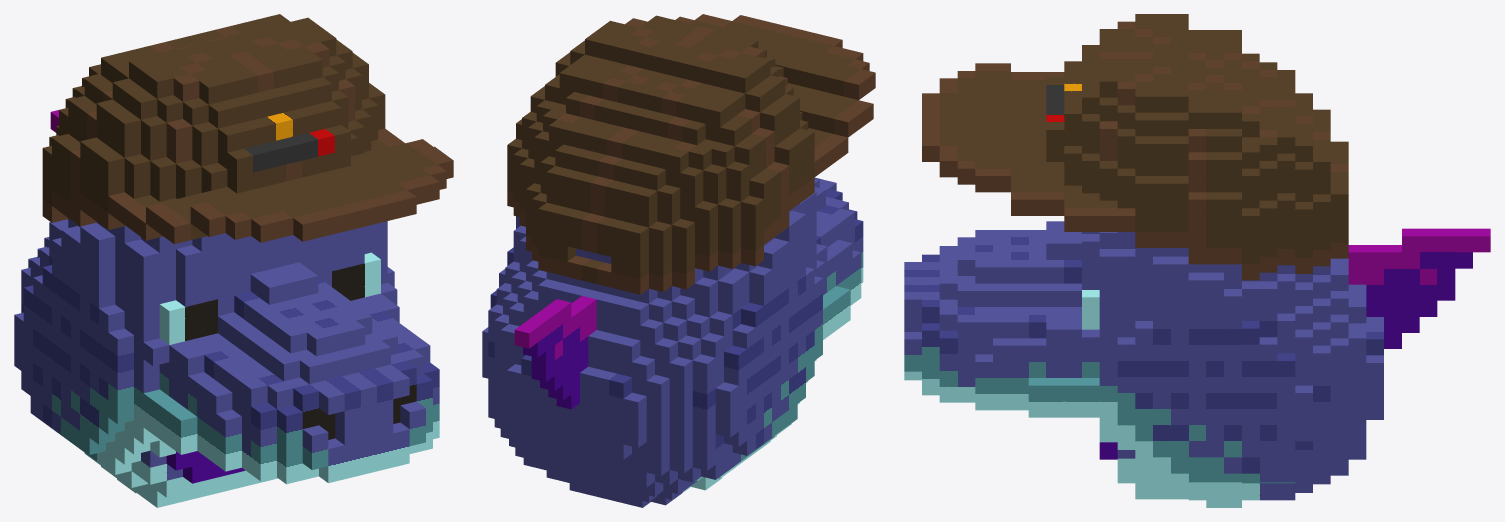
File: wsb hat_red glasses.gltf
3 views of the same model, side by side, from view 1: azimuth 30°, elevation 25°; view 2: azimuth 150°, elevation 25°; view 3: azimuth 270°, elevation 25° (orthographic). The views are drawn at different scales.
Visible parts, largest first — view 1: C61_H_WSB_RedG_RBSpec_SkyD_LazerL_VRGg-Mesh; view 2: C61_H_WSB_RedG_RBSpec_SkyD_LazerL_VRGg-Mesh; view 3: C61_H_WSB_RedG_RBSpec_SkyD_LazerL_VRGg-Mesh.
Part boxes in pixels (x1,y1,x2,y2): C61_H_WSB_RedG_RBSpec_SkyD_LazerL_VRGg-Mesh: [14, 14, 453, 507]; C61_H_WSB_RedG_RBSpec_SkyD_LazerL_VRGg-Mesh: [482, 14, 875, 507]; C61_H_WSB_RedG_RBSpec_SkyD_LazerL_VRGg-Mesh: [904, 14, 1490, 507].
Bounding box in the file's own units: 17 × 26 × 33.
1 material, 1 textured.
